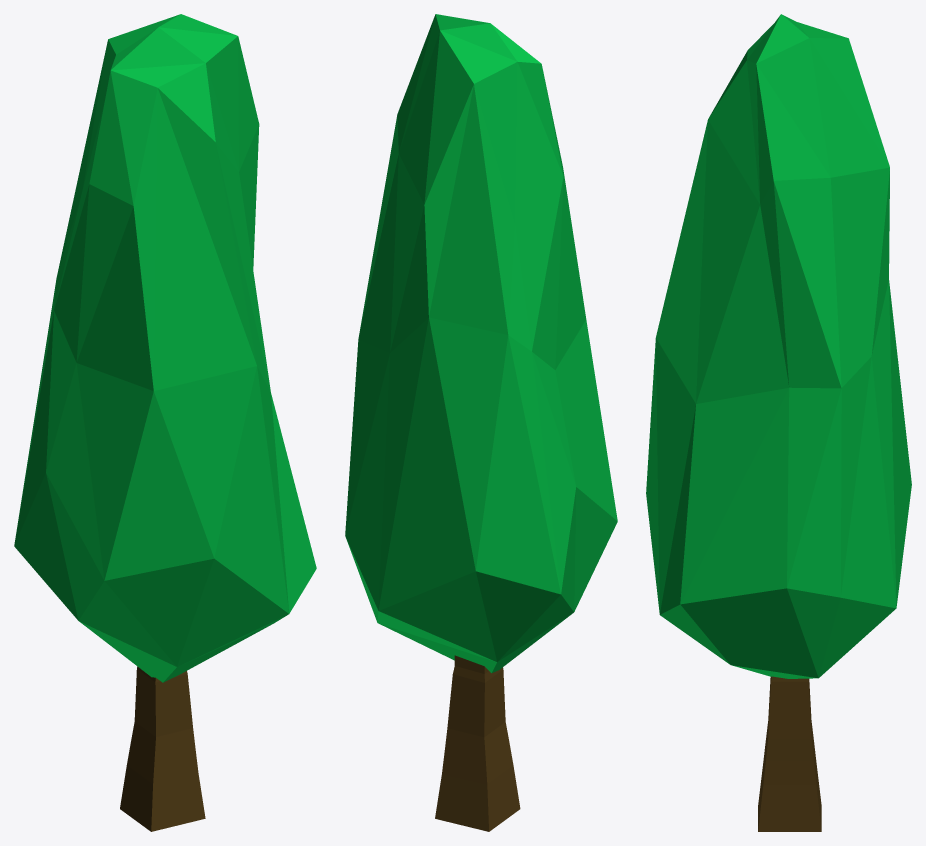
The model's file is Tree_Poplar.fbx.
3 views of the same model, side by side, from view 1: azimuth 30°, elevation 25°; view 2: azimuth 150°, elevation 25°; view 3: azimuth 270°, elevation 25° (orthographic).
Parts seen in each view (by area): view 1: Tree_Poplar; view 2: Tree_Poplar; view 3: Tree_Poplar.
Boxes of the visible parts, bbox=[...] form: Tree_Poplar: bbox=[14, 14, 316, 831]; Tree_Poplar: bbox=[345, 14, 617, 831]; Tree_Poplar: bbox=[646, 14, 911, 831].
Size of the model in its own units: 221 by 696 by 210.
